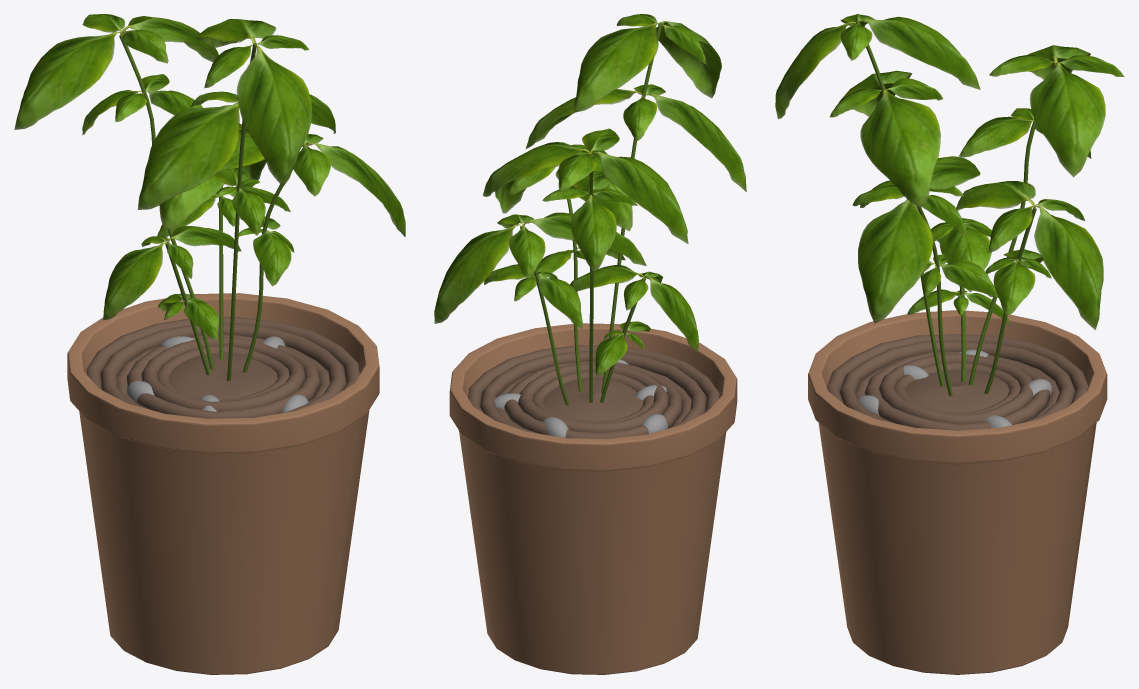
File: basil.glb
3 renders of one model, left to right at view 1: azimuth 30°, elevation 25°; view 2: azimuth 150°, elevation 25°; view 3: azimuth 270°, elevation 25°, orthographic. The views are drawn at different scales.
Parts seen in each view (by area): view 1: basil_pot, basil_plant, Dirt; view 2: basil_pot, basil_plant, Dirt; view 3: basil_pot, basil_plant, Dirt.
Boxes of the visible parts, x1,y1,x2,y2 form: basil_pot: [67, 293, 379, 674]; basil_plant: [14, 14, 405, 380]; Dirt: [86, 317, 359, 418]; basil_pot: [449, 323, 737, 674]; basil_plant: [434, 14, 746, 405]; Dirt: [468, 345, 719, 438]; basil_pot: [808, 310, 1107, 674]; basil_plant: [775, 14, 1124, 396]; Dirt: [827, 334, 1088, 430].
Size of the model in its own units: 0.207 by 0.4226 by 0.222.
5 materials, 1 textured.
